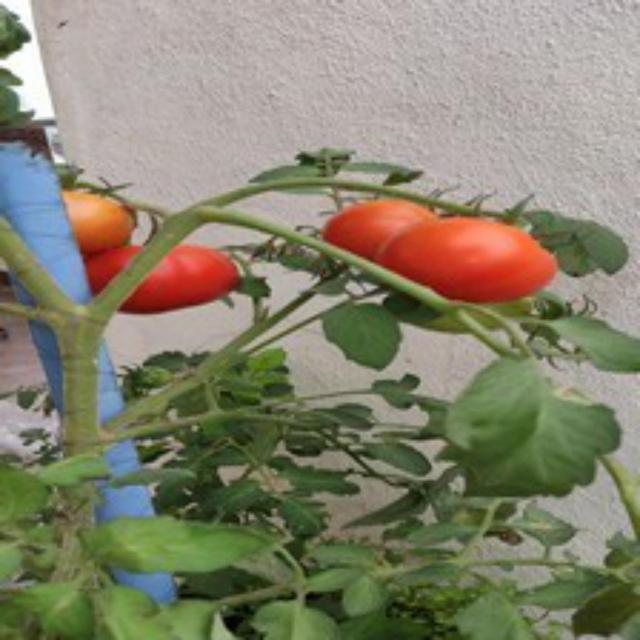tomato: (397, 205, 560, 305), (86, 226, 238, 320)
